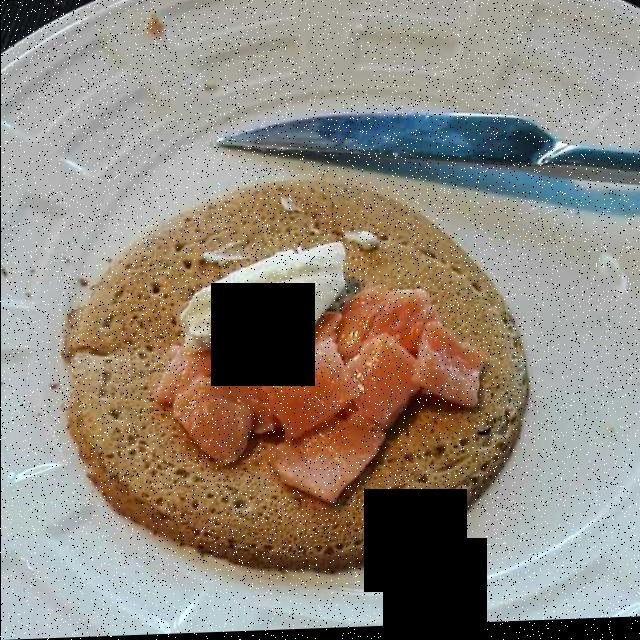cream-cheese: (156, 230, 348, 350), (161, 239, 354, 350)
crepe-plain: (82, 176, 543, 590), (63, 182, 540, 564), (162, 229, 455, 521)
salmon-smoked: (166, 242, 484, 510), (137, 280, 524, 472)
